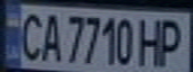0: (115, 15, 139, 66)
1: (100, 14, 118, 65)
7: (60, 11, 84, 64), (81, 12, 103, 64)
A: (36, 9, 63, 63)
C: (12, 8, 45, 62)
H: (136, 15, 166, 67)
P: (154, 15, 190, 67)
